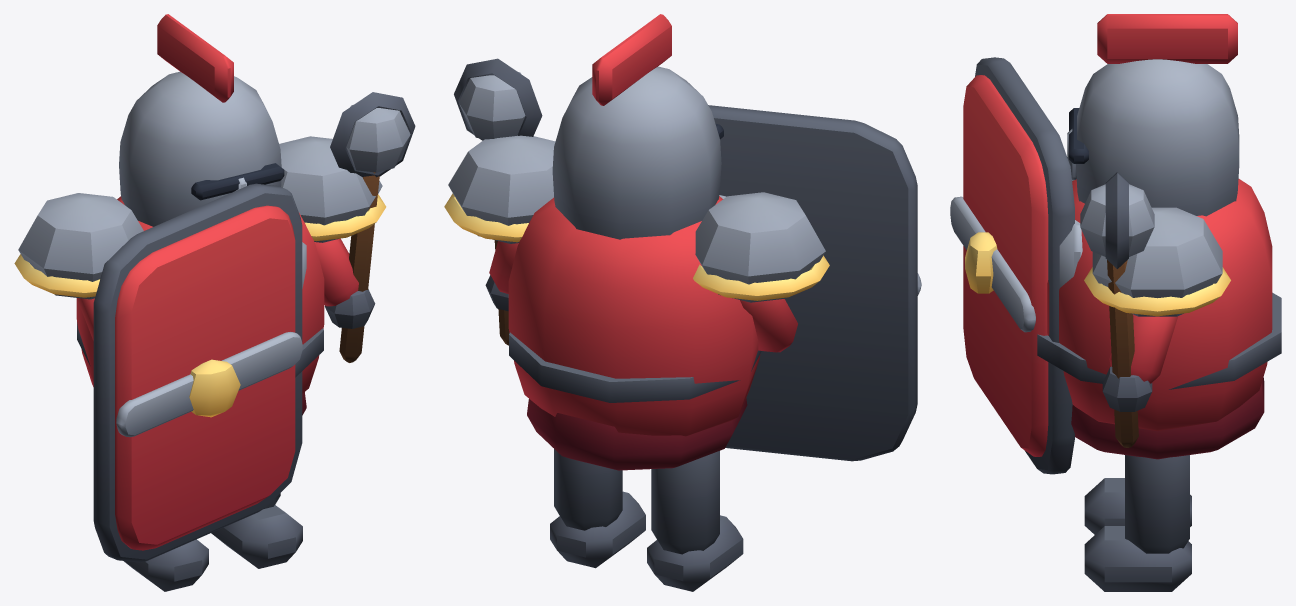
File: Vanguard.fbx
3 views of the same model, side by side, from view 1: azimuth 30°, elevation 25°; view 2: azimuth 150°, elevation 25°; view 3: azimuth 270°, elevation 25° (orthographic). The views are drawn at different scales.
Visible parts, largest first — view 1: Vanguard_Arm.L, Vanguard_Head, Vanguard_Spine, Vanguard_Arm.R, Vanguard_Leg.R, Vanguard_Leg.L; view 2: Vanguard_Spine, Vanguard_Arm.L, Vanguard_Head, Vanguard_Leg.L, Vanguard_Leg.R, Vanguard_Arm.R; view 3: Vanguard_Spine, Vanguard_Arm.L, Vanguard_Head, Vanguard_Arm.R, Vanguard_Leg.R, Vanguard_Leg.L.
Part boxes in pixels (box(x1,y1,x2,y2)): Vanguard_Arm.L: box(77, 183, 302, 562); Vanguard_Head: box(119, 14, 284, 226); Vanguard_Spine: box(14, 136, 386, 415); Vanguard_Arm.R: box(314, 92, 415, 362); Vanguard_Leg.R: box(211, 493, 302, 568); Vanguard_Leg.L: box(124, 539, 208, 591); Vanguard_Spine: box(444, 135, 829, 470); Vanguard_Arm.L: box(708, 105, 921, 461); Vanguard_Head: box(552, 14, 723, 239); Vanguard_Leg.L: box(647, 451, 743, 591); Vanguard_Leg.R: box(550, 449, 645, 568); Vanguard_Arm.R: box(454, 58, 542, 345); Vanguard_Spine: box(1037, 179, 1281, 459); Vanguard_Arm.L: box(950, 57, 1074, 474); Vanguard_Head: box(1067, 14, 1239, 216); Vanguard_Arm.R: box(1080, 172, 1178, 447); Vanguard_Leg.R: box(1084, 455, 1191, 591); Vanguard_Leg.L: box(1084, 478, 1191, 534).
Size of the model in its own units: 1.39 by 1.8 by 0.9904.
